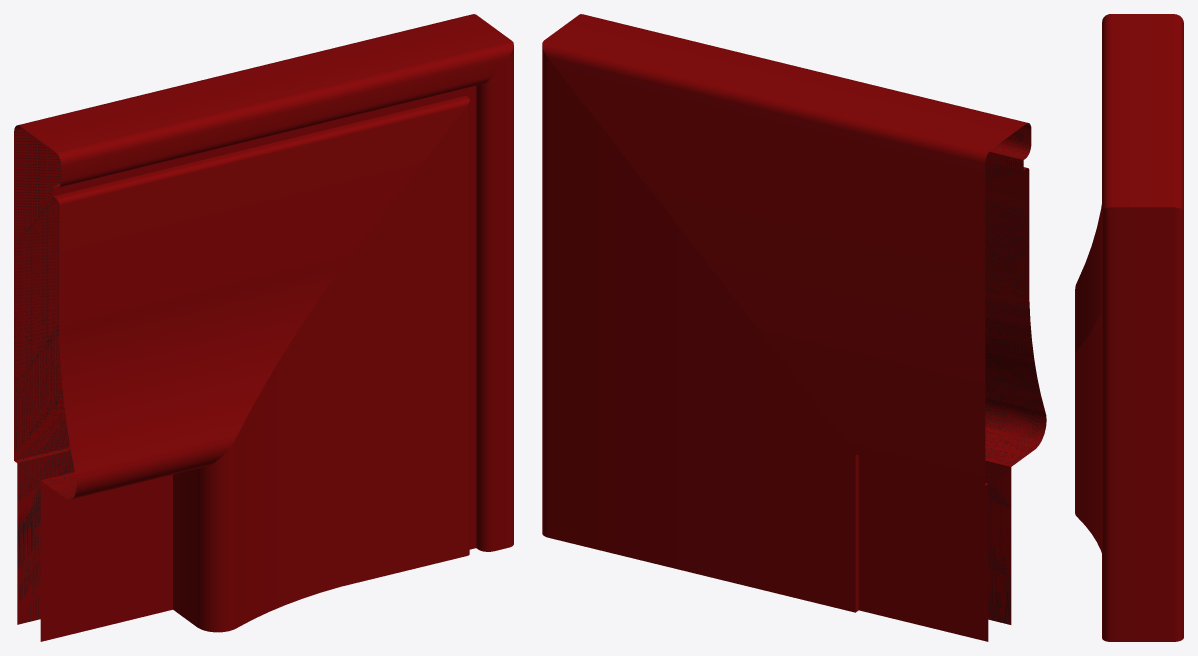
Rendered from original-22.obj.
3 renders of one model, left to right at view 1: azimuth 30°, elevation 25°; view 2: azimuth 150°, elevation 25°; view 3: azimuth 270°, elevation 25°, orthographic. The views are drawn at different scales.
Parts seen in each view (by area): view 1: TB_11_TL1/TB_11_TL/mesh12/mesh12-geometry#mesh12-geometry; view 2: TB_11_TL1/TB_11_TL/mesh12/mesh12-geometry#mesh12-geometry; view 3: TB_11_TL1/TB_11_TL/mesh12/mesh12-geometry#mesh12-geometry.
Boxes of the visible parts, box(x1,y1,x2,y2) form: TB_11_TL1/TB_11_TL/mesh12/mesh12-geometry#mesh12-geometry: box(14, 14, 513, 641); TB_11_TL1/TB_11_TL/mesh12/mesh12-geometry#mesh12-geometry: box(542, 14, 1046, 641); TB_11_TL1/TB_11_TL/mesh12/mesh12-geometry#mesh12-geometry: box(1075, 14, 1183, 641).
Size of the model in its own units: 0.1357 by 0.1422 by 0.0323.
